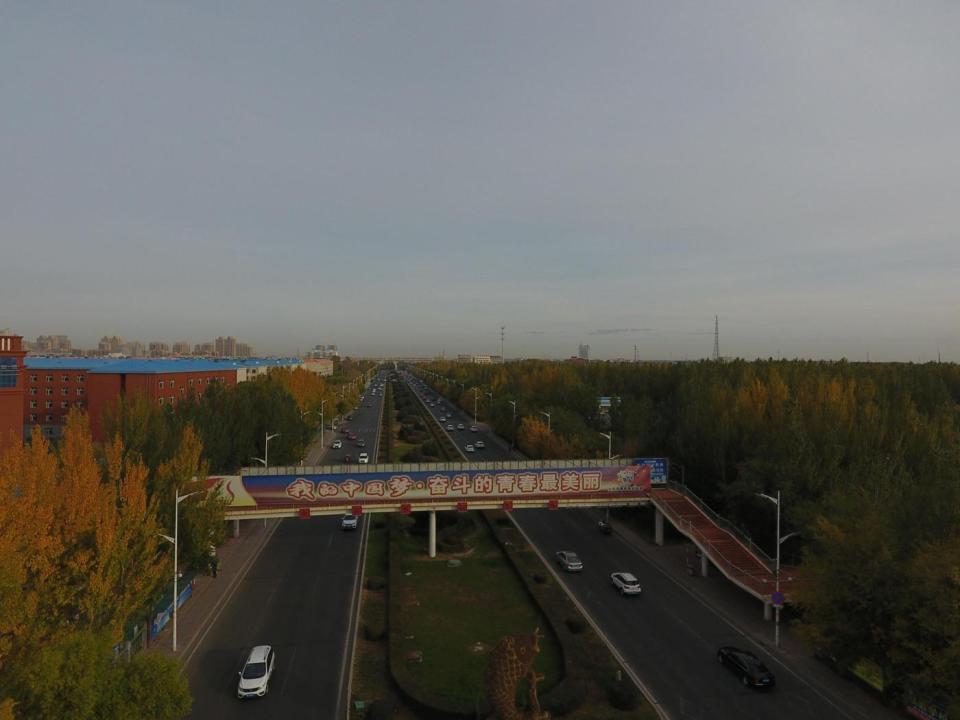car: (716, 644, 776, 694), (234, 645, 275, 700), (610, 571, 642, 597), (554, 550, 584, 574), (341, 512, 357, 530), (358, 452, 369, 465), (323, 422, 338, 430), (333, 440, 342, 449), (464, 445, 474, 453), (357, 440, 366, 448), (347, 432, 356, 440), (446, 424, 454, 432), (475, 441, 484, 448), (340, 428, 349, 434), (470, 426, 478, 432), (458, 423, 464, 430), (439, 416, 446, 422), (429, 402, 435, 408), (368, 403, 373, 408), (441, 406, 446, 411), (347, 415, 352, 420), (353, 405, 358, 410), (358, 397, 363, 402), (360, 394, 365, 399), (431, 396, 436, 401), (354, 402, 360, 406), (370, 391, 376, 395), (446, 412, 450, 417), (437, 397, 442, 401), (419, 393, 423, 398), (378, 393, 382, 398), (372, 387, 377, 391), (426, 398, 430, 402), (423, 396, 427, 400), (424, 391, 428, 395), (412, 386, 416, 390), (424, 386, 428, 390), (379, 383, 383, 387), (380, 383, 385, 386), (367, 387, 372, 390), (437, 400, 440, 404), (419, 388, 422, 392), (375, 382, 377, 386), (420, 385, 423, 387), (380, 388, 383, 390), (378, 387, 381, 389)
truck: (370, 379, 374, 383)
